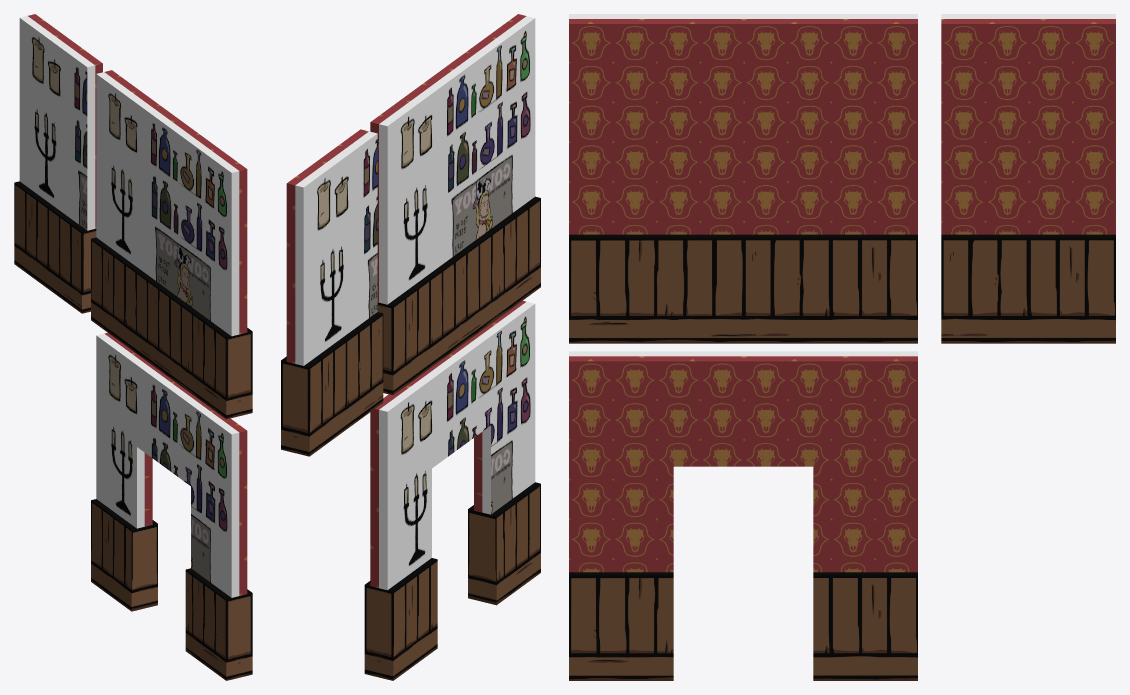
Rendered from sciany lol1.fbx.
3 views of the same model, side by side, from view 1: azimuth 30°, elevation 25°; view 2: azimuth 150°, elevation 25°; view 3: azimuth 270°, elevation 25° (orthographic). The views are drawn at different scales.
Parts seen in each view (by area): view 1: ŚcianaBazowa Tapeta1, ŚcianaBazowa Tapeta1 Drzwi, ŚcianaBazowa Tapeta1 pozioma; view 2: ŚcianaBazowa Tapeta1, ŚcianaBazowa Tapeta1 Drzwi, ŚcianaBazowa Tapeta1 pozioma; view 3: ŚcianaBazowa Tapeta1, ŚcianaBazowa Tapeta1 Drzwi, ŚcianaBazowa Tapeta1 pozioma.
Part boxes in pixels (x1,y1,x2,y2): ŚcianaBazowa Tapeta1: (91, 70, 252, 419); ŚcianaBazowa Tapeta1 Drzwi: (91, 332, 252, 680); ŚcianaBazowa Tapeta1 pozioma: (14, 14, 102, 313); ŚcianaBazowa Tapeta1: (370, 14, 540, 395); ŚcianaBazowa Tapeta1 Drzwi: (364, 300, 540, 680); ŚcianaBazowa Tapeta1 pozioma: (281, 129, 383, 456); ŚcianaBazowa Tapeta1: (569, 14, 917, 343); ŚcianaBazowa Tapeta1 Drzwi: (569, 351, 917, 680); ŚcianaBazowa Tapeta1 pozioma: (941, 14, 1115, 343).
Bounding box in the file's own units: 33.46 × 620 × 470.
